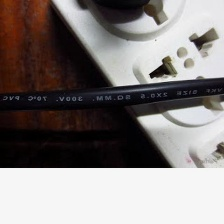three_eye_plug: (41, 0, 224, 177)
